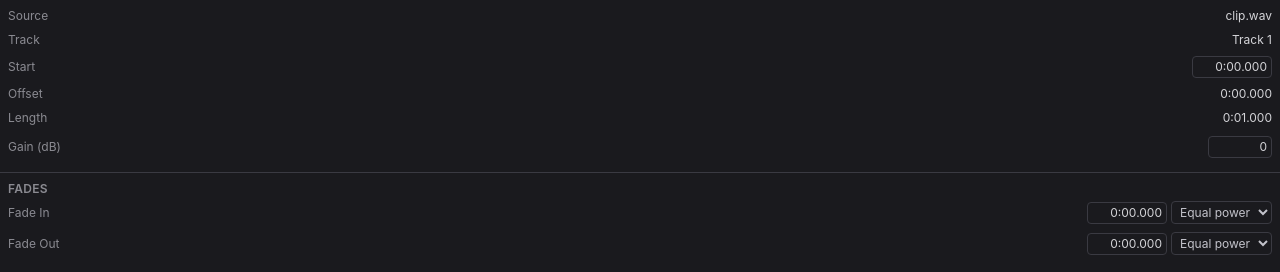
Test: PropertiesPanel (multitrack view) › the clip Start field › echoes the position the STORE kept, not the text that was typed
Replace the text in the field named "clip start" with "2.5" at (1232, 67), box [1192,56,1272,78]
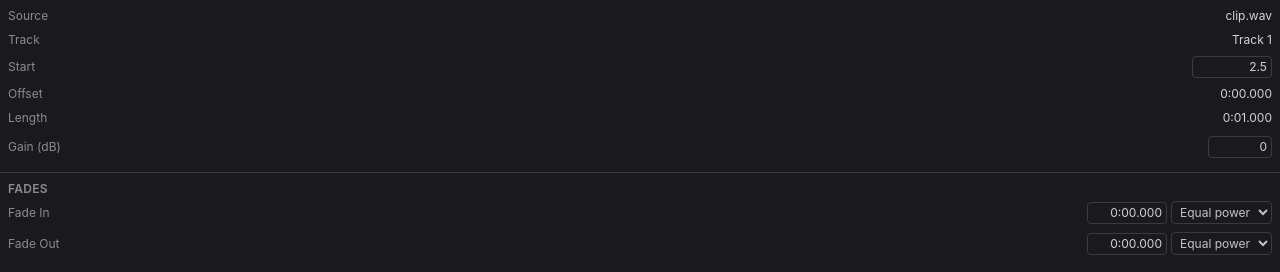
Leave the field named "clip start", box [1192,56,1272,78]
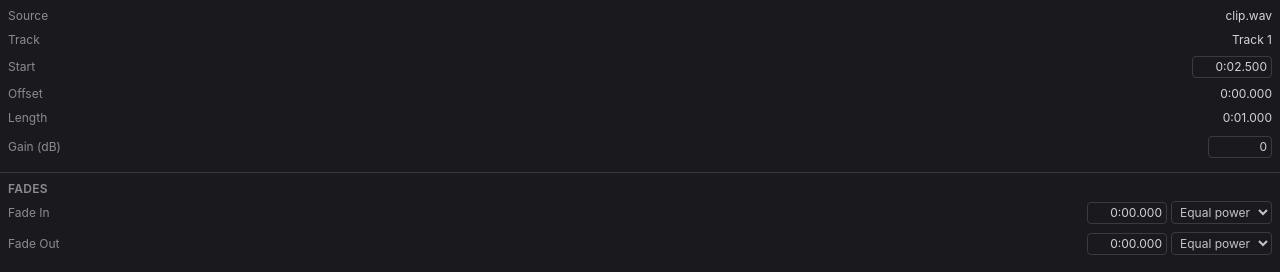
Check: the field named "clip start" holds "0:02.500", box [1192,56,1272,78]
